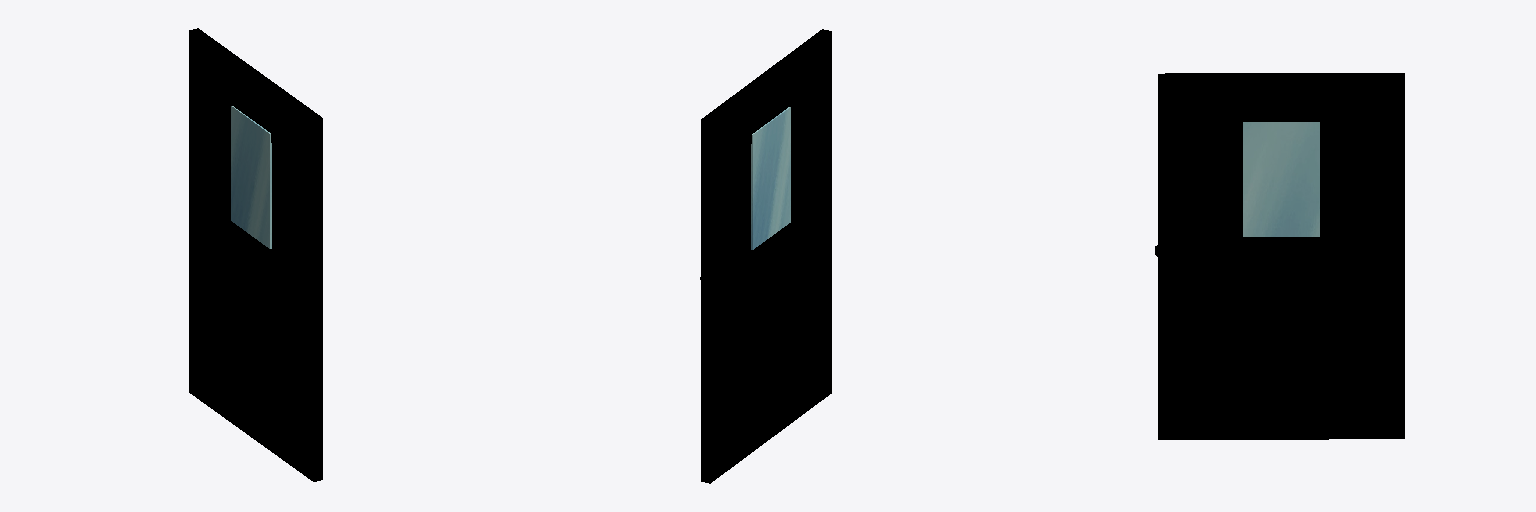
3 views of the same model, side by side, from view 1: azimuth 30°, elevation 25°; view 2: azimuth 150°, elevation 25°; view 3: azimuth 270°, elevation 25° (orthographic).
Bounding box in the file's own units: 0.9515 × 11.21 × 7.01.
Materials: 6 (1 with a texture image).